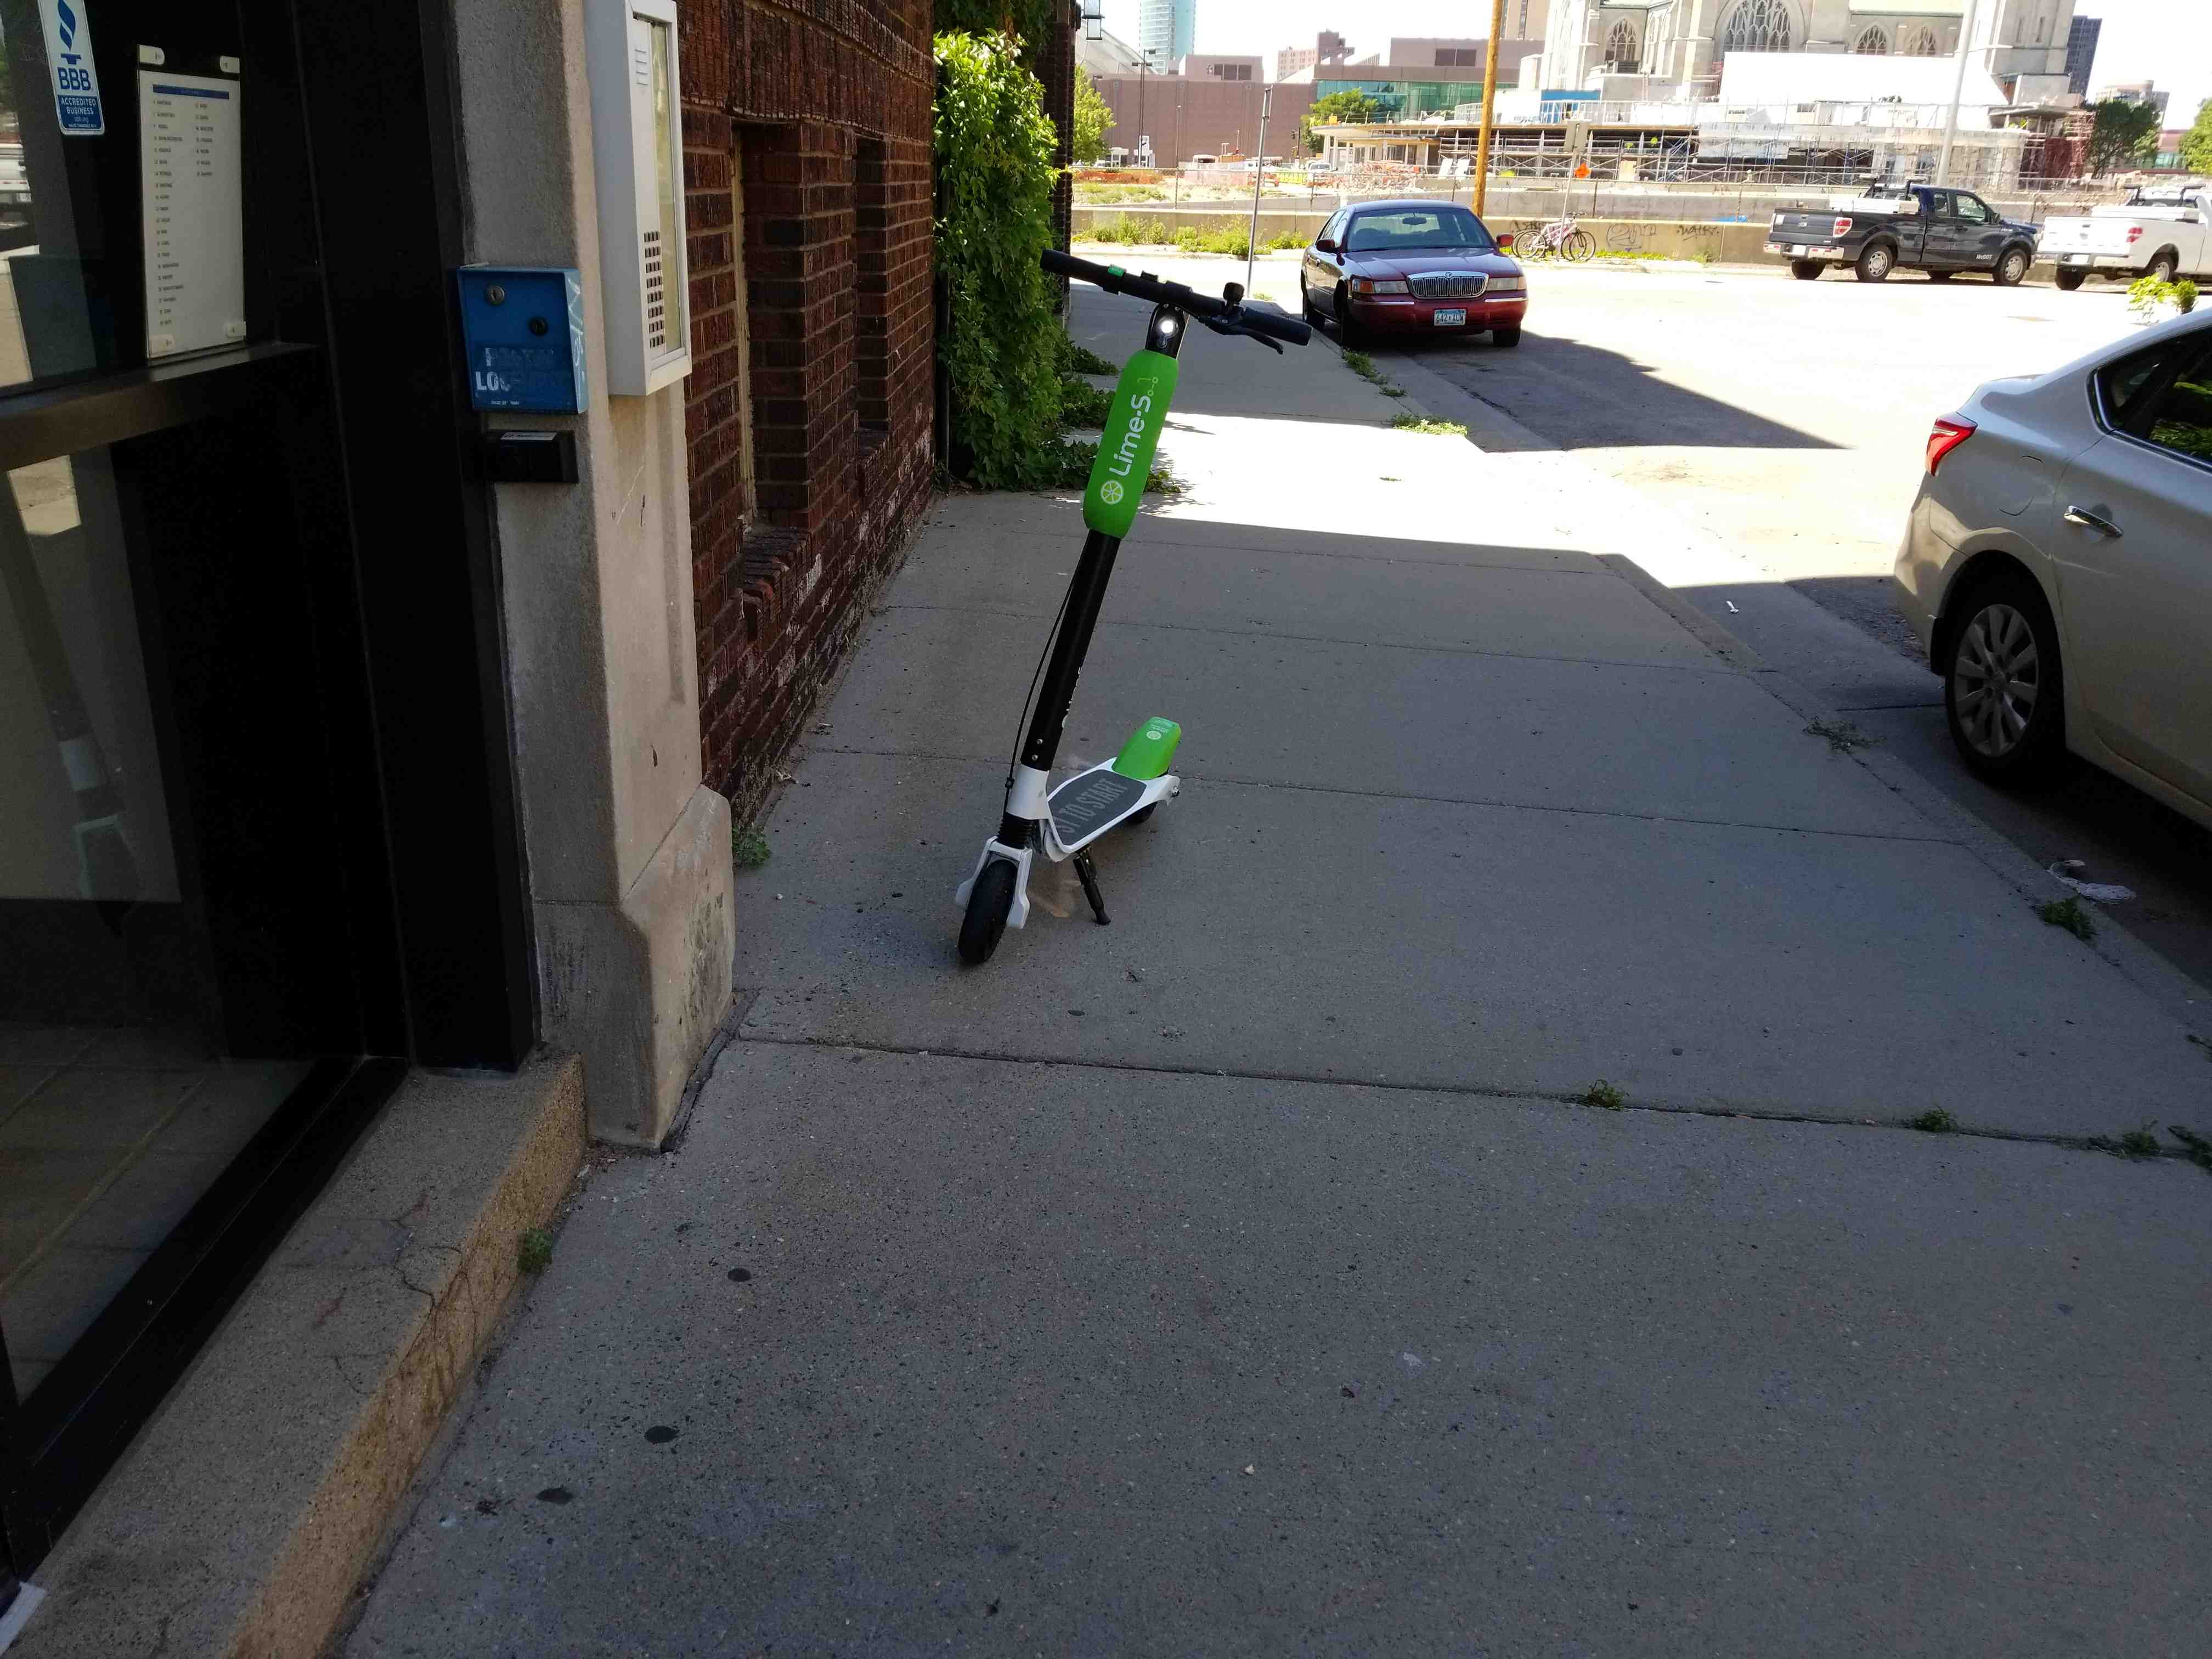scooter: (975, 242, 1331, 964)
